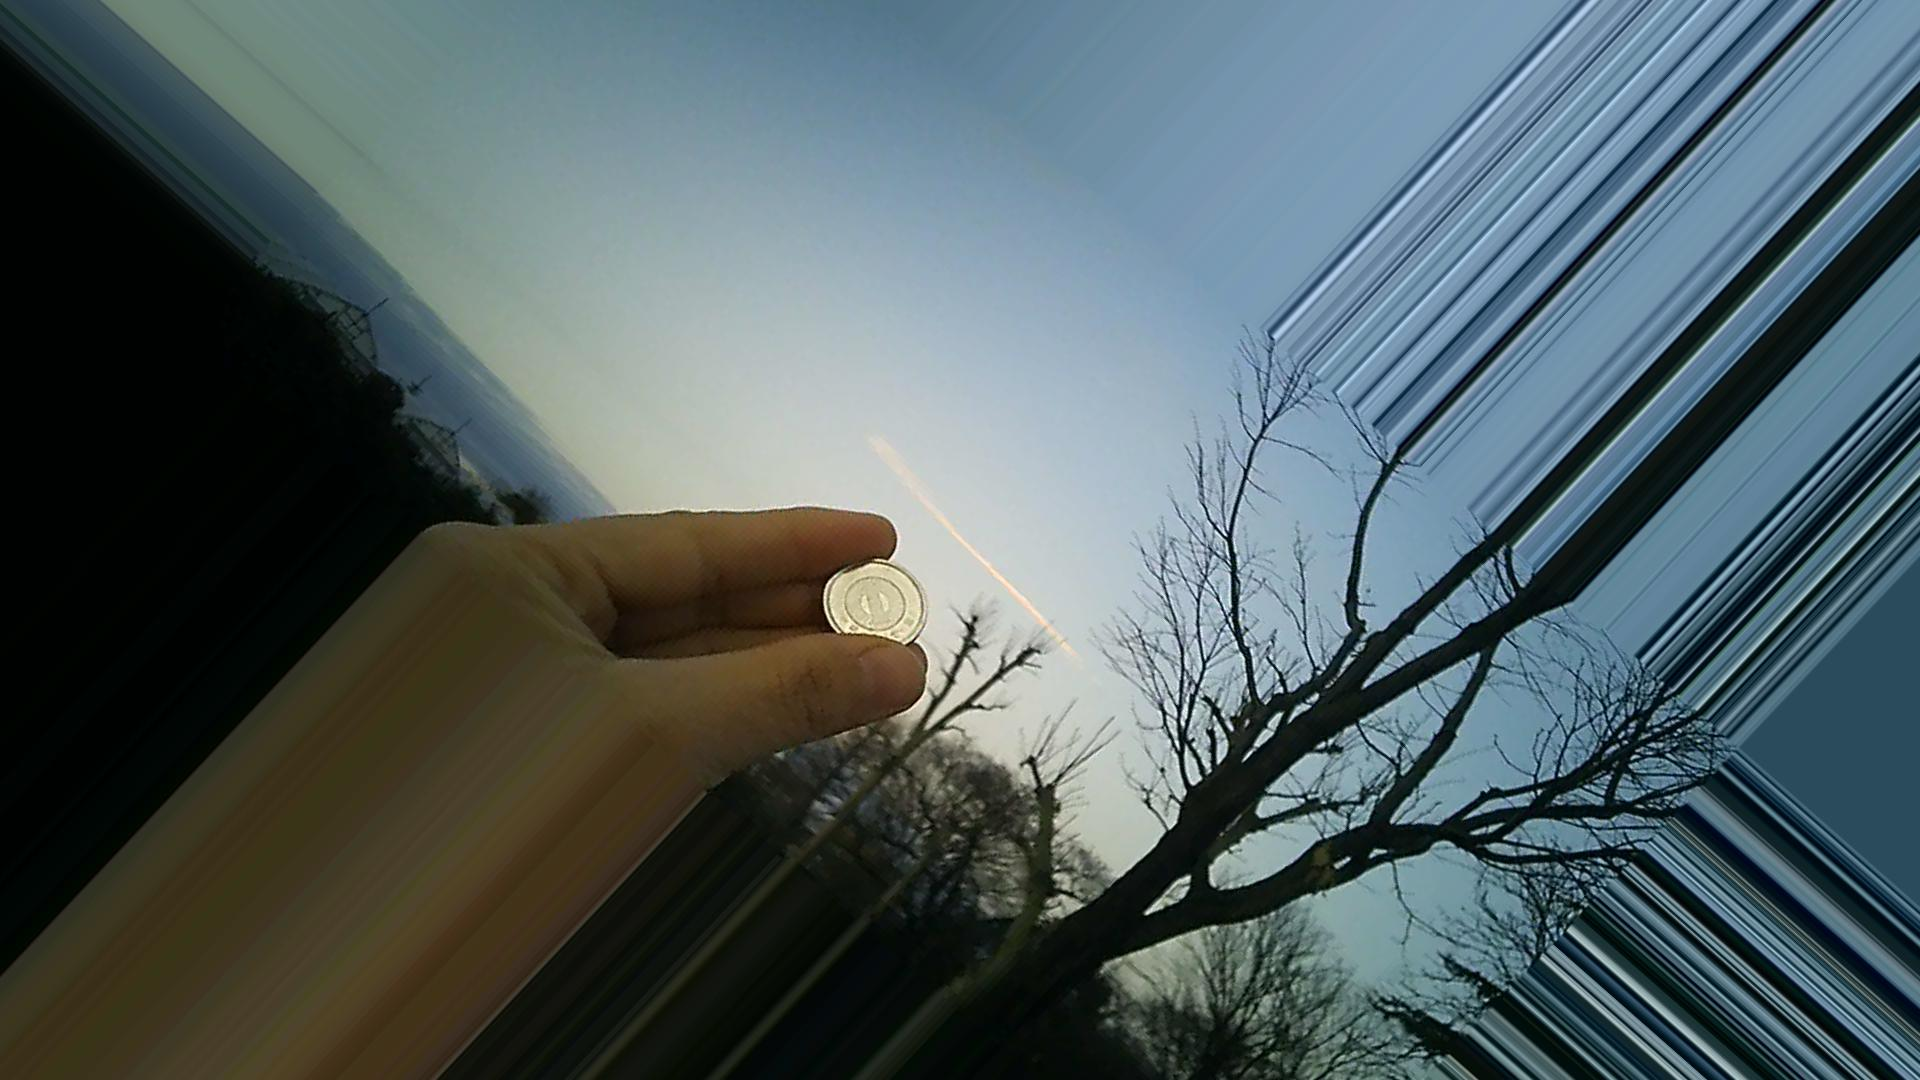1 Yen: (814, 545, 932, 653)
